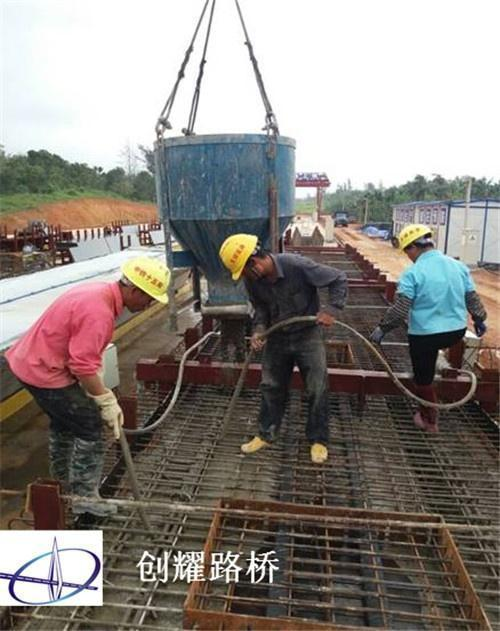0: (91, 376, 143, 437)
Boots: (116, 244, 171, 314), (214, 215, 261, 291), (391, 211, 436, 254)
Ear-protection: (11, 297, 125, 496), (240, 263, 339, 464), (391, 259, 481, 432)
